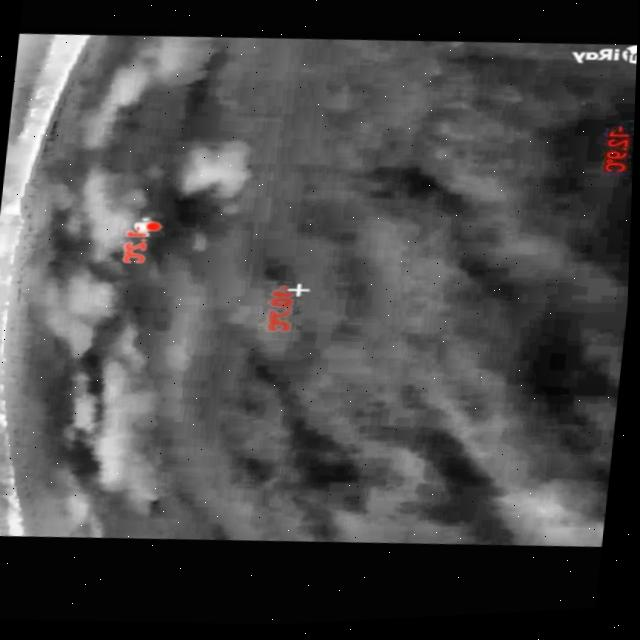drone: (128, 216, 162, 241)
